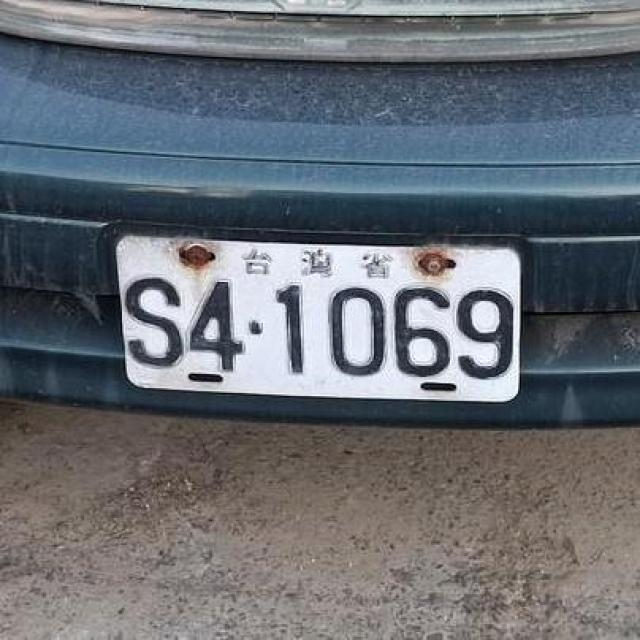W: (98, 234, 534, 406)
